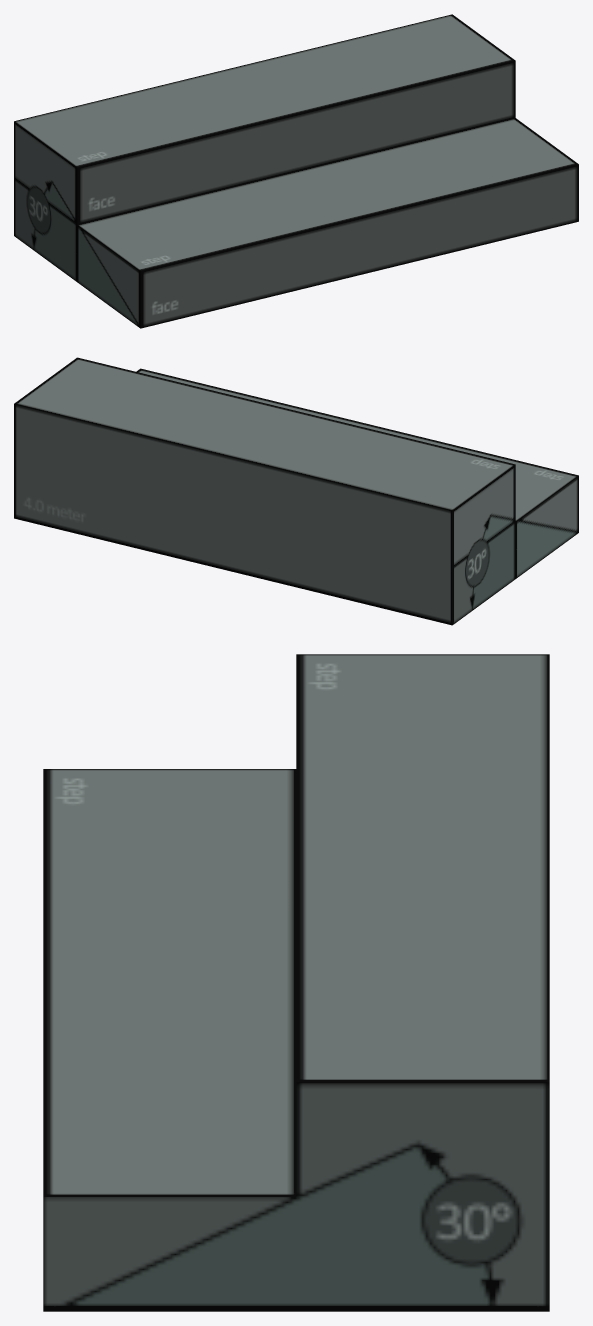
File: Stairs_30_01.fbx
3 views of the same model, one above another, from view 1: azimuth 30°, elevation 25°; view 2: azimuth 150°, elevation 25°; view 3: azimuth 270°, elevation 25° (orthographic). The views are drawn at different scales.
Visible parts, largest first — view 1: Stairs_30_01; view 2: Stairs_30_01; view 3: Stairs_30_01.
Part boxes in pixels (x1,y1,x2,y2): Stairs_30_01: (14,14,578,328); Stairs_30_01: (14,357,578,625); Stairs_30_01: (43,654,549,1311).
Size of the model in its own units: 4 by 1 by 2.
